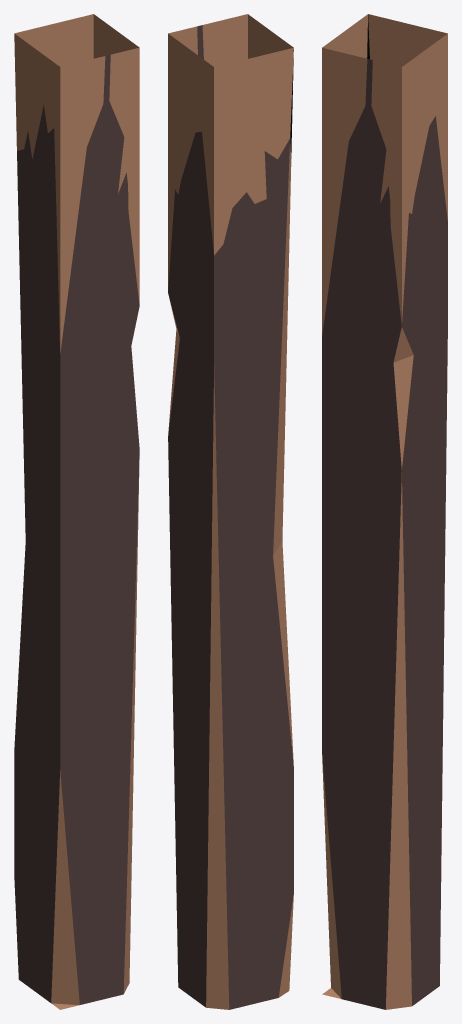
File: builder_57.FBX
3 views of the same model, side by side, from view 1: azimuth 30°, elevation 25°; view 2: azimuth 210°, elevation 25°; view 3: azimuth 330°, elevation 25° (orthographic).
Visible parts, largest first — view 1: builder_57; view 2: builder_57; view 3: builder_57.
Boxes of the visible parts, bbox=[...] form: builder_57: bbox=[14, 14, 139, 1009]; builder_57: bbox=[168, 14, 293, 1009]; builder_57: bbox=[322, 14, 447, 1009].
Bounding box in the file's own units: 5.05 × 57.29 × 5.05.
